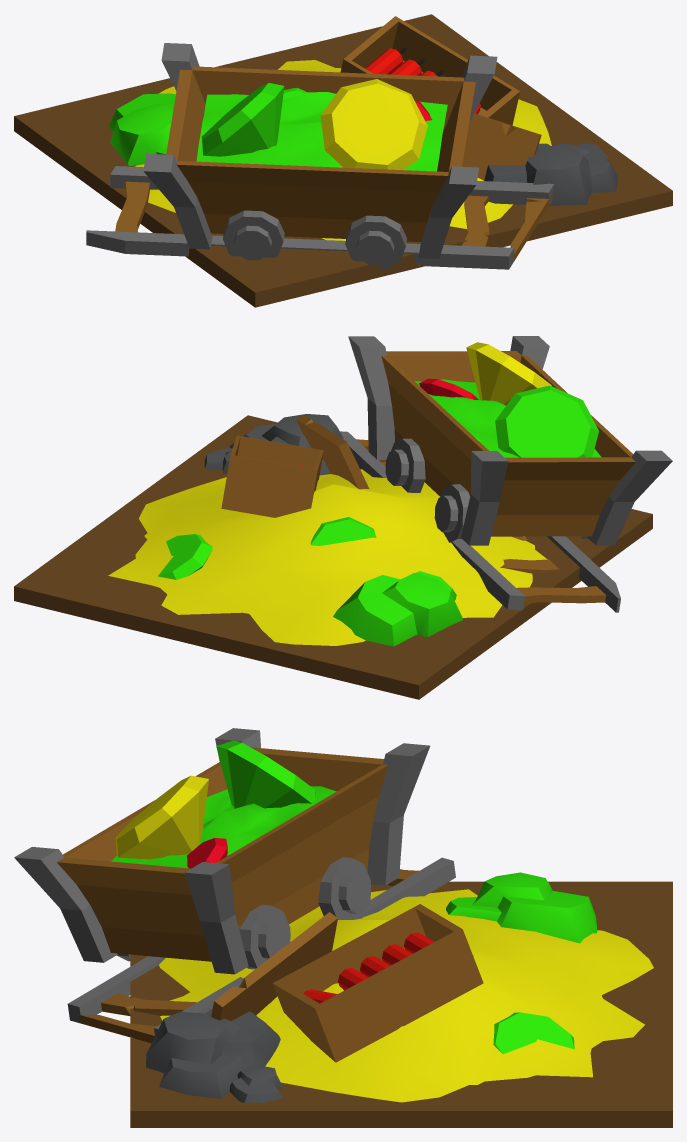
The model's file is CollectionZone.fbx.
3 renders of one model, top to bottom at view 1: azimuth 30°, elevation 25°; view 2: azimuth 150°, elevation 25°; view 3: azimuth 270°, elevation 25°, orthographic. The views are drawn at different scales.
Parts seen in each view (by area): view 1: Cart.002, Plane, Rails.001, Cylinder, Gem.002, Cart.003, Rock.002, Gem.001, Rock.001, CollectionZone; view 2: CollectionZone, Cart.002, Plane, Cylinder, Rock.001, Rails.001, Gem.001, Gem.002, Cart.003, Gem.006, Rock.002, Gem.005 (+1 smaller); view 3: Cart.002, CollectionZone, Plane, Cylinder, Rock.002, Rails.001, Rock.001, Gem.002, Gem.001, Cart.003, Gem.006, Rock.003 (+1 smaller).
Boxes of the visible parts, x1,y1,x2,y2 form: Cart.002: (143,43,497,269); Plane: (14,14,672,307); Rails.001: (86,166,554,269); Cylinder: (340,16,541,180); Gem.002: (320,79,427,169); Cart.003: (196,92,447,171); Rock.002: (484,143,618,205); Gem.001: (201,83,284,156); Rock.001: (109,93,175,165); CollectionZone: (135,60,551,240); CollectionZone: (108,469,547,645); Cart.002: (348,336,672,545); Plane: (14,415,652,699); Cylinder: (221,414,369,517); Rock.001: (333,571,462,646); Rails.001: (340,431,620,612); Gem.001: (495,385,598,457); Gem.002: (466,342,551,405); Cart.003: (415,379,601,457); Gem.006: (158,534,212,579); Rock.002: (230,414,343,475); Gem.005: (310,517,376,545); Cart.002: (14,728,430,974); CollectionZone: (159,889,653,1102); Plane: (130,881,672,1127); Cylinder: (211,904,483,1062); Rock.002: (146,1008,280,1098); Rails.001: (67,857,455,1043); Rock.001: (446,872,597,943); Gem.002: (116,775,208,859); Gem.001: (216,740,315,808); Cart.003: (111,786,336,868); Gem.006: (493,1012,574,1054); Rock.003: (229,1066,283,1102).
Size of the model in its own units: 705 by 262 by 736.
